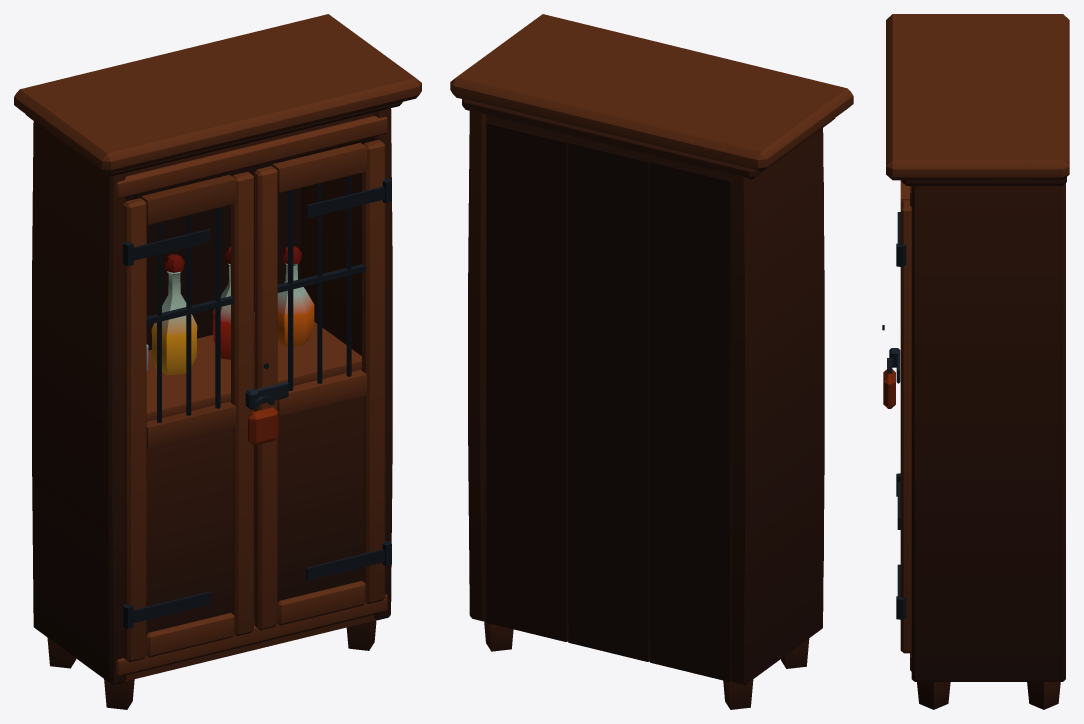
Rendered from Kilitli_Dolap.fbx.
3 views of the same model, side by side, from view 1: azimuth 30°, elevation 25°; view 2: azimuth 150°, elevation 25°; view 3: azimuth 270°, elevation 25° (orthographic). The views are drawn at different scales.
Parts seen in each view (by area): view 1: SM_Dolap_Govde, Dolap_Kapak_Sag, Dolap_Kapak_Sol, Dolap_Kilit; view 2: SM_Dolap_Govde; view 3: SM_Dolap_Govde, Dolap_Kapak_Sag, Dolap_Kilit, Dolap_Kapak_Sol.
Part boxes in pixels (x1,y1,x2,y2): SM_Dolap_Govde: [14, 14, 421, 709]; Dolap_Kapak_Sag: [254, 139, 391, 630]; Dolap_Kapak_Sol: [123, 171, 258, 662]; Dolap_Kilit: [248, 363, 278, 445]; SM_Dolap_Govde: [450, 14, 853, 709]; SM_Dolap_Govde: [886, 14, 1069, 709]; Dolap_Kapak_Sag: [896, 180, 911, 653]; Dolap_Kilit: [882, 325, 895, 408]; Dolap_Kapak_Sol: [889, 348, 900, 529].
Bounding box in the file's own units: 0.98 × 1.68 × 0.51.
